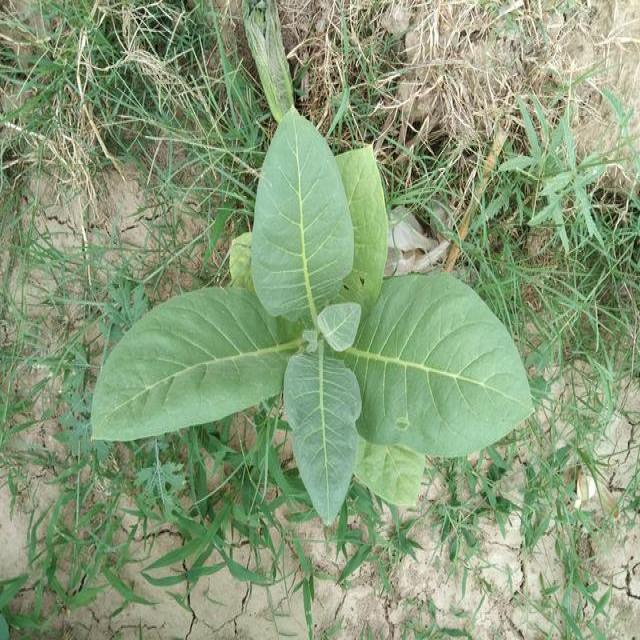crop: (82, 100, 546, 529)
